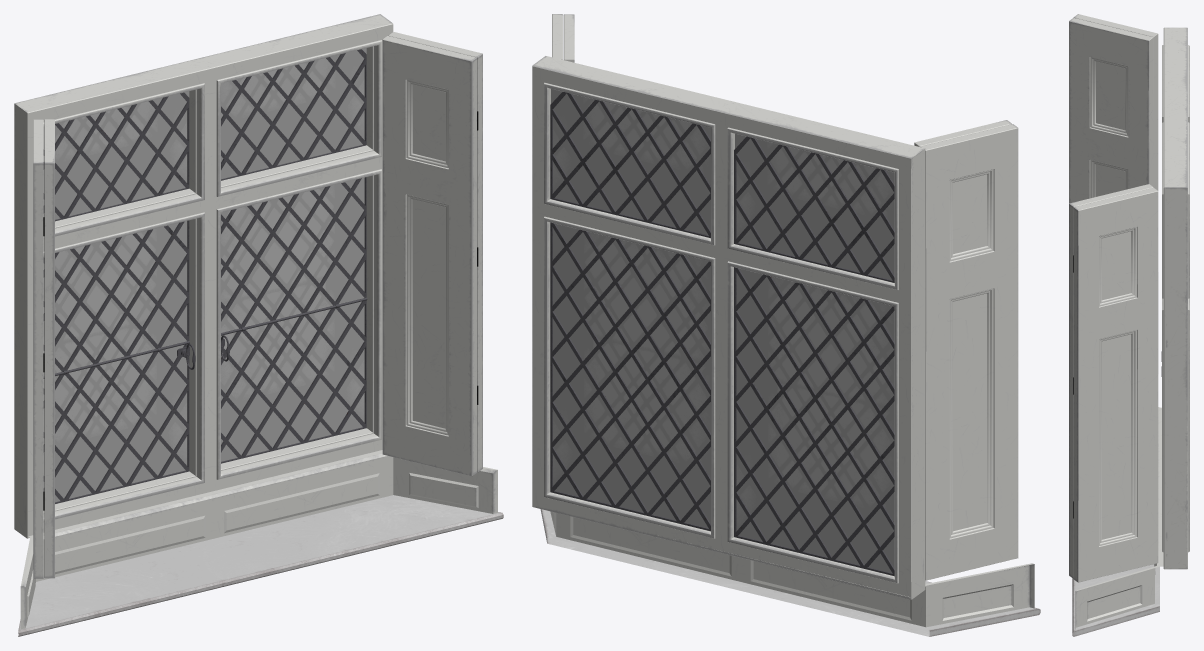
3 views of the same model, side by side, from view 1: azimuth 30°, elevation 25°; view 2: azimuth 150°, elevation 25°; view 3: azimuth 270°, elevation 25° (orthographic). The views are drawn at different scales.
Parts seen in each view (by area): view 1: Box2131636321, 对象013, Plane009, Plane007, Plane012, Box006, Plane010, 对象014, Plane013; view 2: Box2131636321, Plane009, 对象014, Plane012, Plane007, Plane013, Plane010, Box006, 对象013; view 3: 对象013, Box2131636321, 对象014, Box006.
Part boxes in pixels (left/top/right/bottom): Box2131636321: left=14, top=14, right=497, bottom=629; 对象013: left=382, top=32, right=482, bottom=476; Plane009: left=43, top=49, right=367, bottom=503; Plane007: left=221, top=177, right=364, bottom=461; Plane012: left=43, top=221, right=187, bottom=502; Box006: left=18, top=495, right=503, bottom=636; Plane010: left=221, top=48, right=366, bottom=179; 对象014: left=33, top=119, right=54, bottom=578; Plane013: left=43, top=91, right=189, bottom=219; Box2131636321: left=532, top=56, right=1034, bottom=627; Plane009: left=550, top=92, right=894, bottom=576; 对象014: left=914, top=120, right=1018, bottom=580; Plane012: left=736, top=268, right=894, bottom=572; Plane007: left=553, top=223, right=710, bottom=527; Plane013: left=735, top=133, right=894, bottom=279; Plane010: left=551, top=89, right=710, bottom=235; Box006: left=540, top=509, right=1040, bottom=636; 对象013: left=552, top=14, right=574, bottom=62; 对象013: left=1069, top=184, right=1158, bottom=582; Box2131636321: left=1075, top=27, right=1189, bottom=629; 对象014: left=1069, top=14, right=1158, bottom=203; Box006: left=1072, top=564, right=1159, bottom=636.
Size of the model in its own units: 2101 by 1957 by 506.
Materials: 5 (5 with a texture image).
